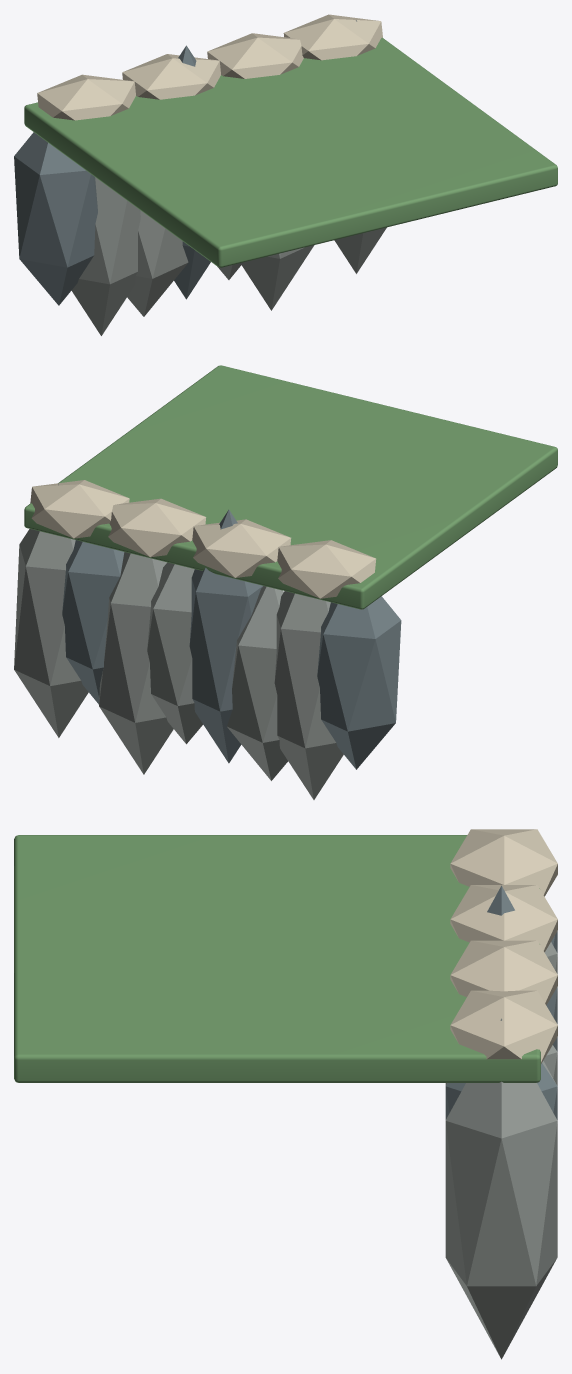
File: SM_Terrain_CliffEdge_4m.fbx
3 renders of one model, top to bottom at view 1: azimuth 30°, elevation 25°; view 2: azimuth 150°, elevation 25°; view 3: azimuth 270°, elevation 25°, orthographic. The views are drawn at different scales.
Visible parts, largest first — view 1: SM_Terrain_CliffEdge_4m; view 2: SM_Terrain_CliffEdge_4m; view 3: SM_Terrain_CliffEdge_4m.
Part boxes in pixels (x1,y1,x2,y2): SM_Terrain_CliffEdge_4m: (14, 14, 557, 335); SM_Terrain_CliffEdge_4m: (14, 365, 557, 799); SM_Terrain_CliffEdge_4m: (14, 829, 557, 1359).
Size of the model in its own units: 4.43 by 3.22 by 4.13.
